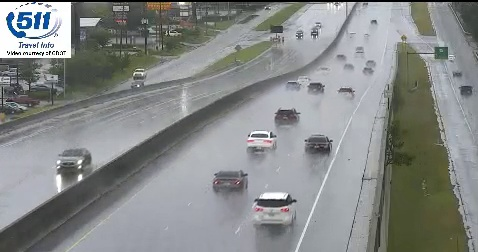car: (252, 192, 295, 225), (212, 170, 248, 190), (248, 131, 276, 152), (305, 135, 332, 153), (275, 109, 298, 125), (308, 82, 325, 94), (337, 87, 354, 99)
